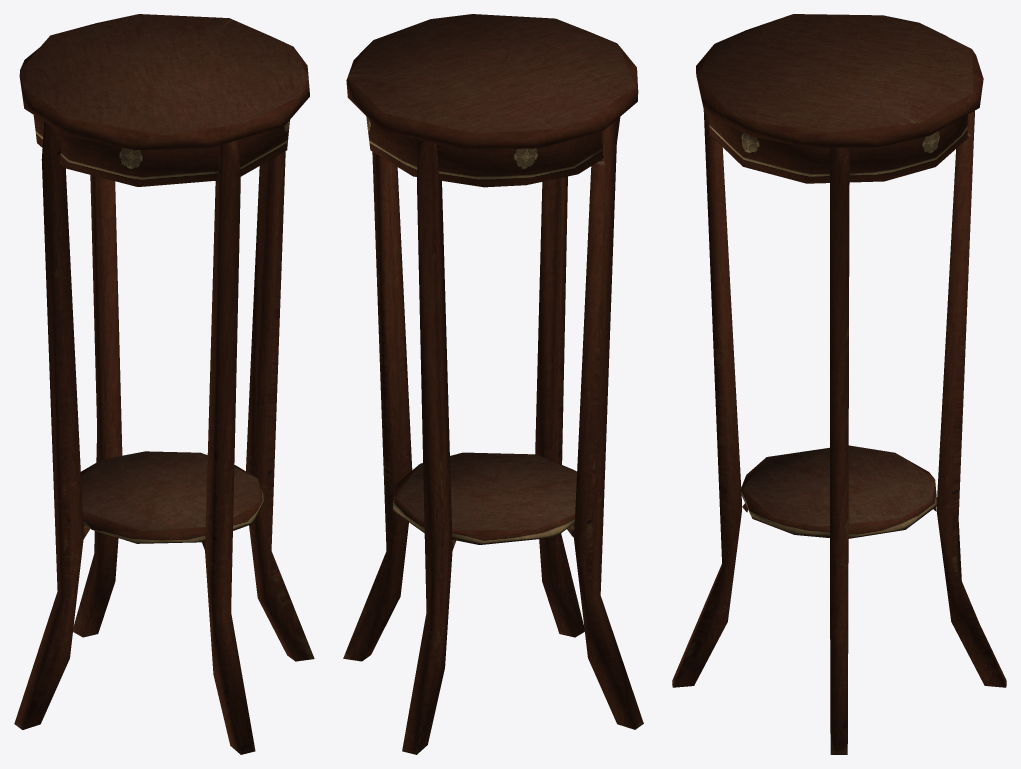
The model's file is SideTableTallLOD2.fbx.
The picture shows the model from 3 angles, left to right: view 1: azimuth 30°, elevation 25°; view 2: azimuth 150°, elevation 25°; view 3: azimuth 270°, elevation 25°; orthographic projection.
Parts seen in each view (by area): view 1: side_table_tall_01; view 2: side_table_tall_01; view 3: side_table_tall_01.
Boxes of the visible parts, bbox=[...] form: side_table_tall_01: bbox=[14, 14, 314, 754]; side_table_tall_01: bbox=[343, 14, 643, 754]; side_table_tall_01: bbox=[672, 14, 1006, 754].
Size of the model in its own units: 37.62 by 76.04 by 37.62.
